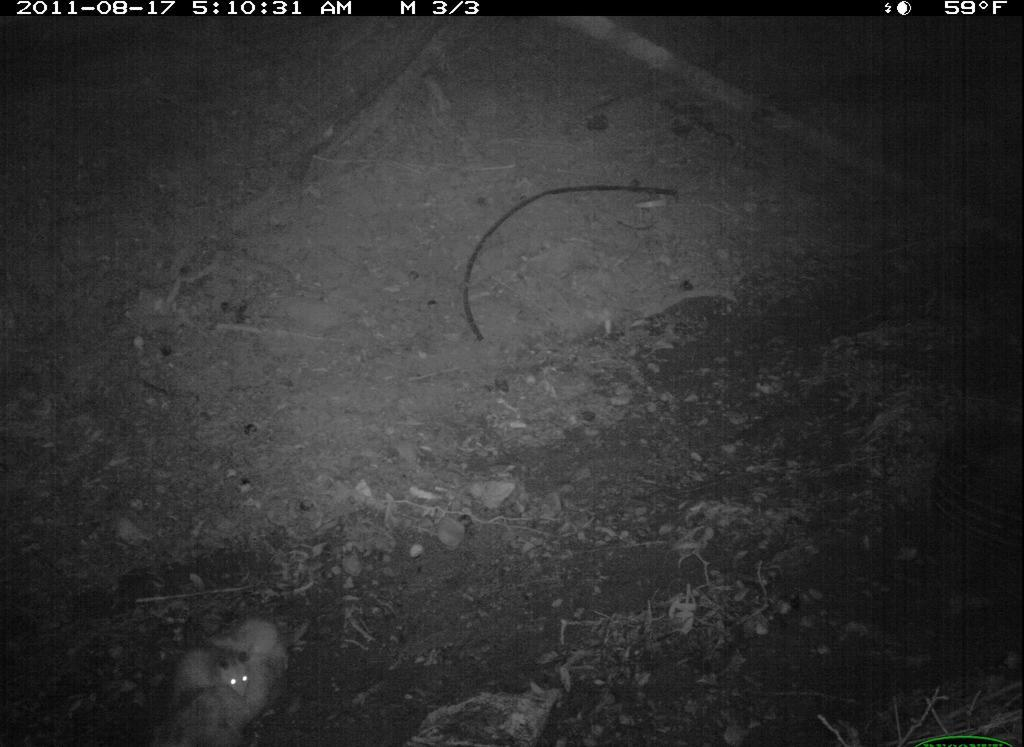opossum: (167, 609, 294, 747)
